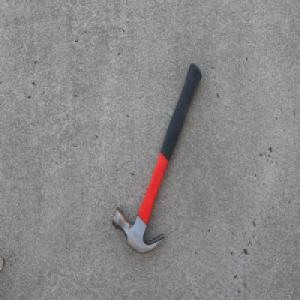Hammer: (111, 62, 202, 254)
